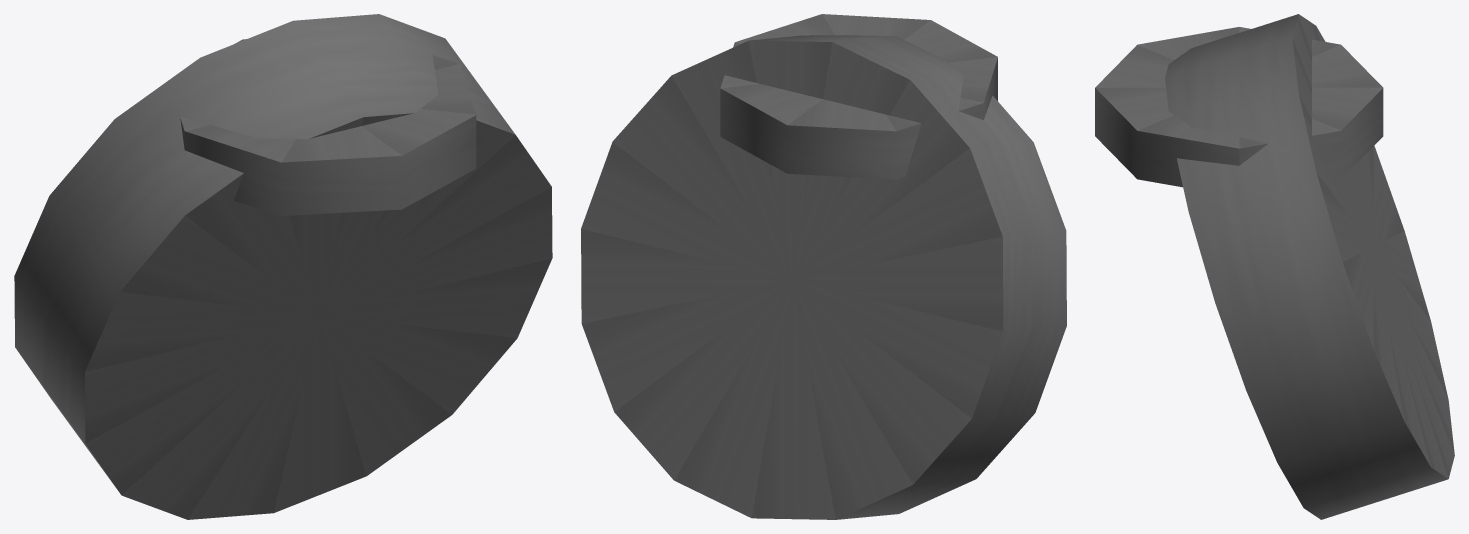
Rendered from mastarmcurve_5x1_c0_up.obj.
3 views of the same model, side by side, from view 1: azimuth 30°, elevation 25°; view 2: azimuth 150°, elevation 25°; view 3: azimuth 270°, elevation 25° (orthographic). The views are drawn at different scales.
Parts seen in each view (by area): view 1: mastarm_5x1_c0_up; view 2: mastarm_5x1_c0_up; view 3: mastarm_5x1_c0_up.
Part boxes in pixels (<box>): mastarm_5x1_c0_up: <box>14,14,552,519</box>; mastarm_5x1_c0_up: <box>581,14,1066,519</box>; mastarm_5x1_c0_up: <box>1095,14,1454,519</box>.
Bounding box in the file's own units: 0.6785 × 0.7023 × 0.4992.
